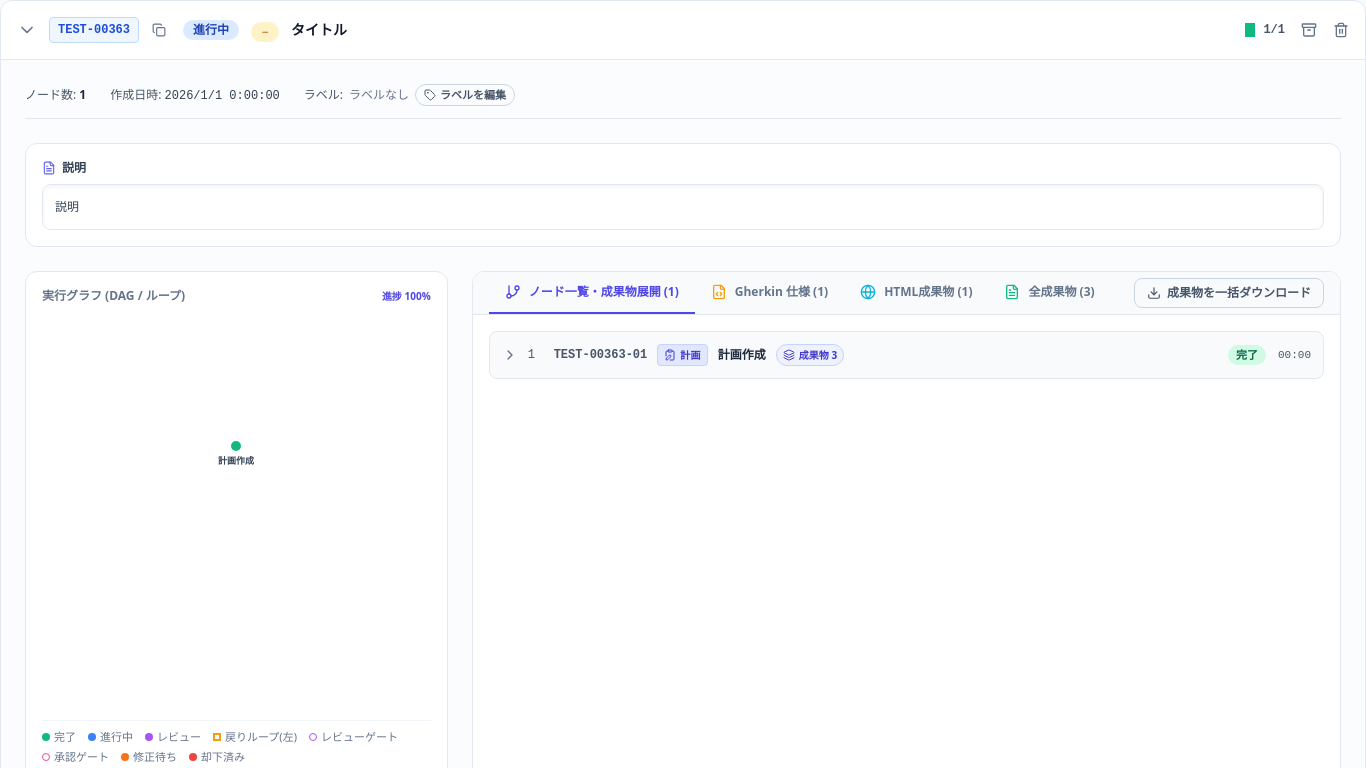
Test case: DFLT-00363 the "open in new tab" link shows the blue focus ring › in the Artifacts tab, where the html link is shrunk to its label
The width and height of the screenshot is (1366, 768).
Click the tab "全成果物 (3)". click: x=1050, y=292
box: [988, 272, 1111, 314]
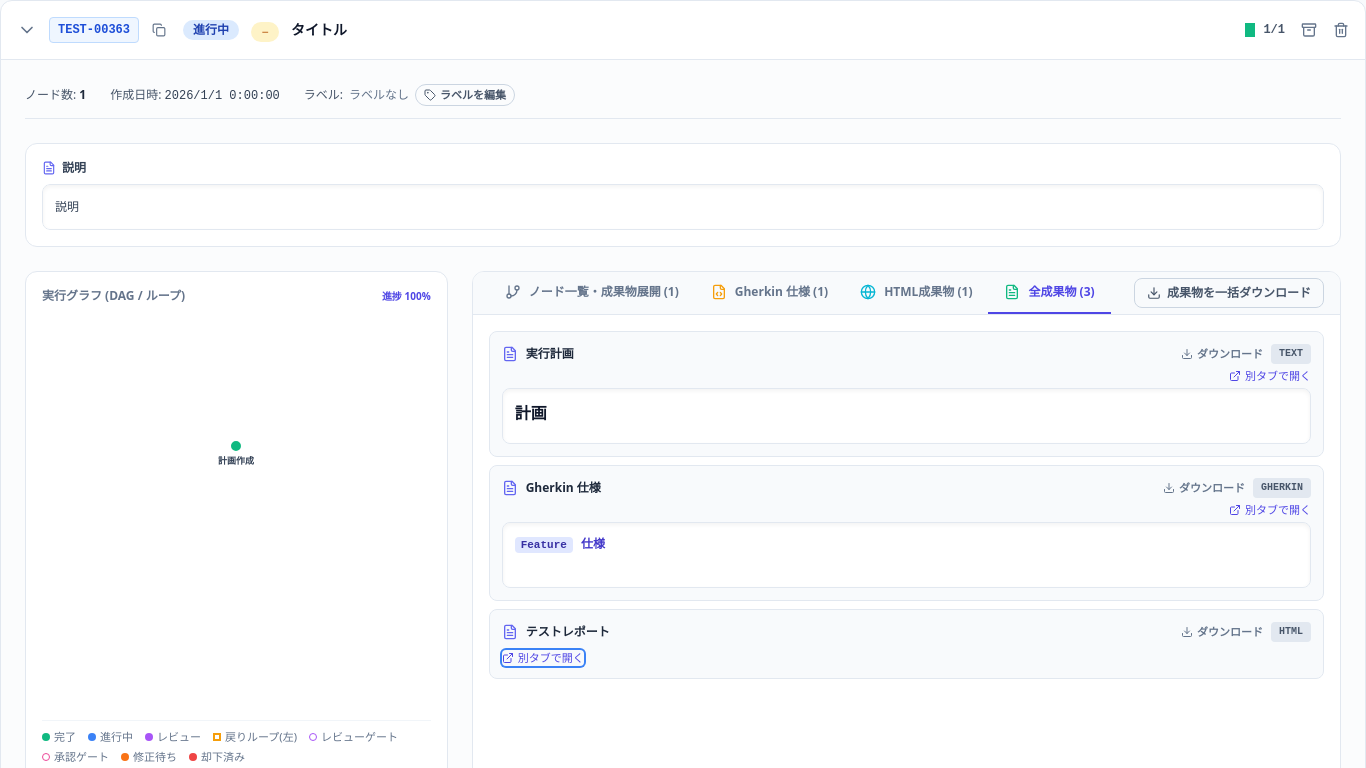
Now the number of links "別タブで開く" is 3, box [1229, 368, 1311, 384]; [1229, 502, 1311, 518]; [502, 650, 584, 666]
Now the link "別タブで開く" below "テストレポート" is shown, box [502, 650, 584, 666]
